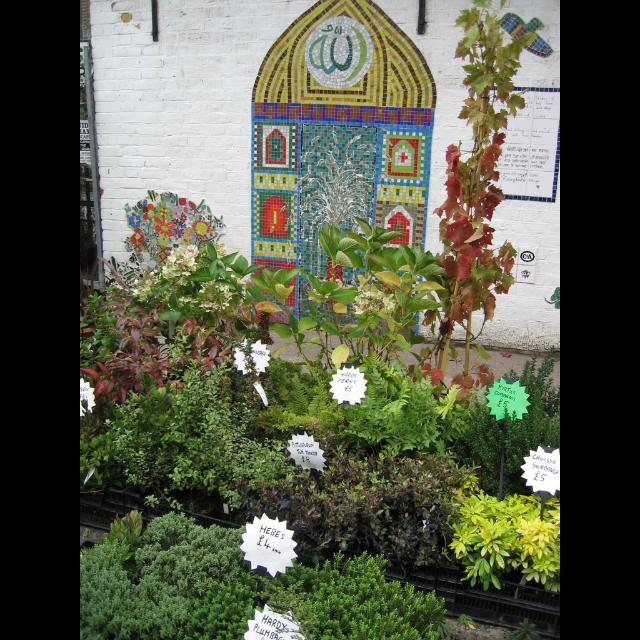Flower: (120, 206, 216, 300), (238, 513, 300, 579), (246, 603, 310, 639), (327, 360, 377, 406), (523, 444, 559, 502), (484, 380, 534, 420), (288, 429, 330, 476), (234, 337, 272, 378), (200, 277, 238, 315), (352, 282, 396, 314), (80, 377, 100, 421)
